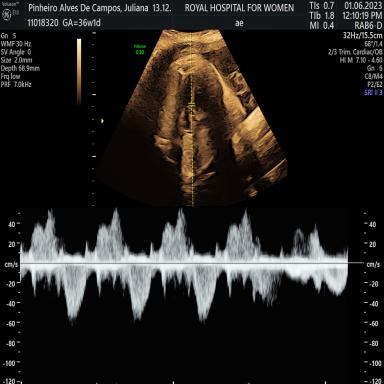Ultrasound-Waves: (27, 207, 347, 383)
